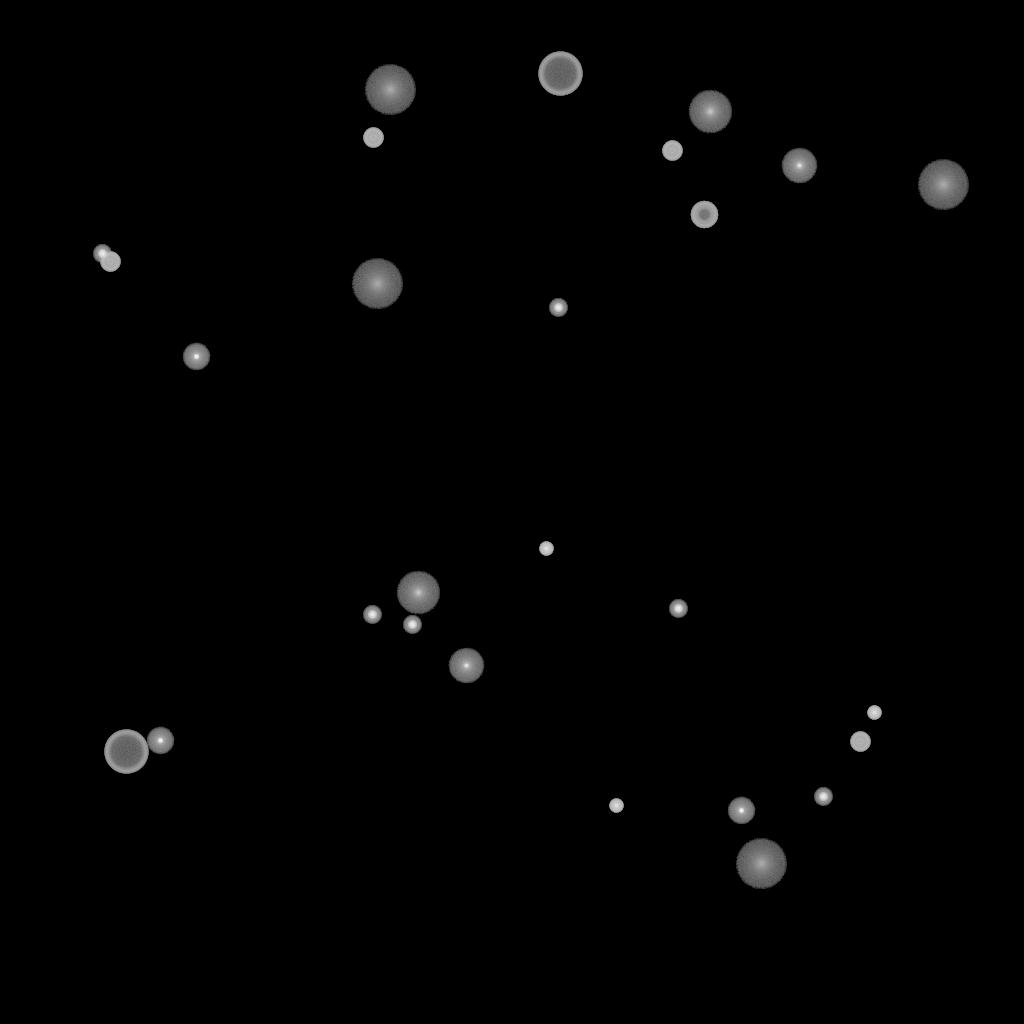depth:-10: (146, 727, 174, 755), (727, 797, 755, 825), (182, 343, 210, 371)
depth:-20: (814, 788, 832, 806), (93, 245, 111, 263), (363, 606, 381, 624), (403, 616, 421, 634), (549, 299, 567, 317), (669, 600, 687, 618)
depth:-30: (539, 542, 553, 556), (867, 706, 881, 720), (609, 799, 623, 813)
depth:-40: (662, 141, 682, 161), (100, 252, 120, 272), (850, 732, 870, 752), (363, 128, 383, 148)
depth:-50: (690, 201, 718, 229)
depth:-70: (104, 730, 148, 774), (538, 52, 582, 96)
depth:0: (781, 148, 817, 184), (448, 648, 484, 684)
depth:10: (396, 571, 440, 615), (688, 90, 732, 134)
depth:20: (917, 160, 969, 210), (735, 839, 787, 889), (351, 259, 403, 309), (364, 65, 416, 115)
